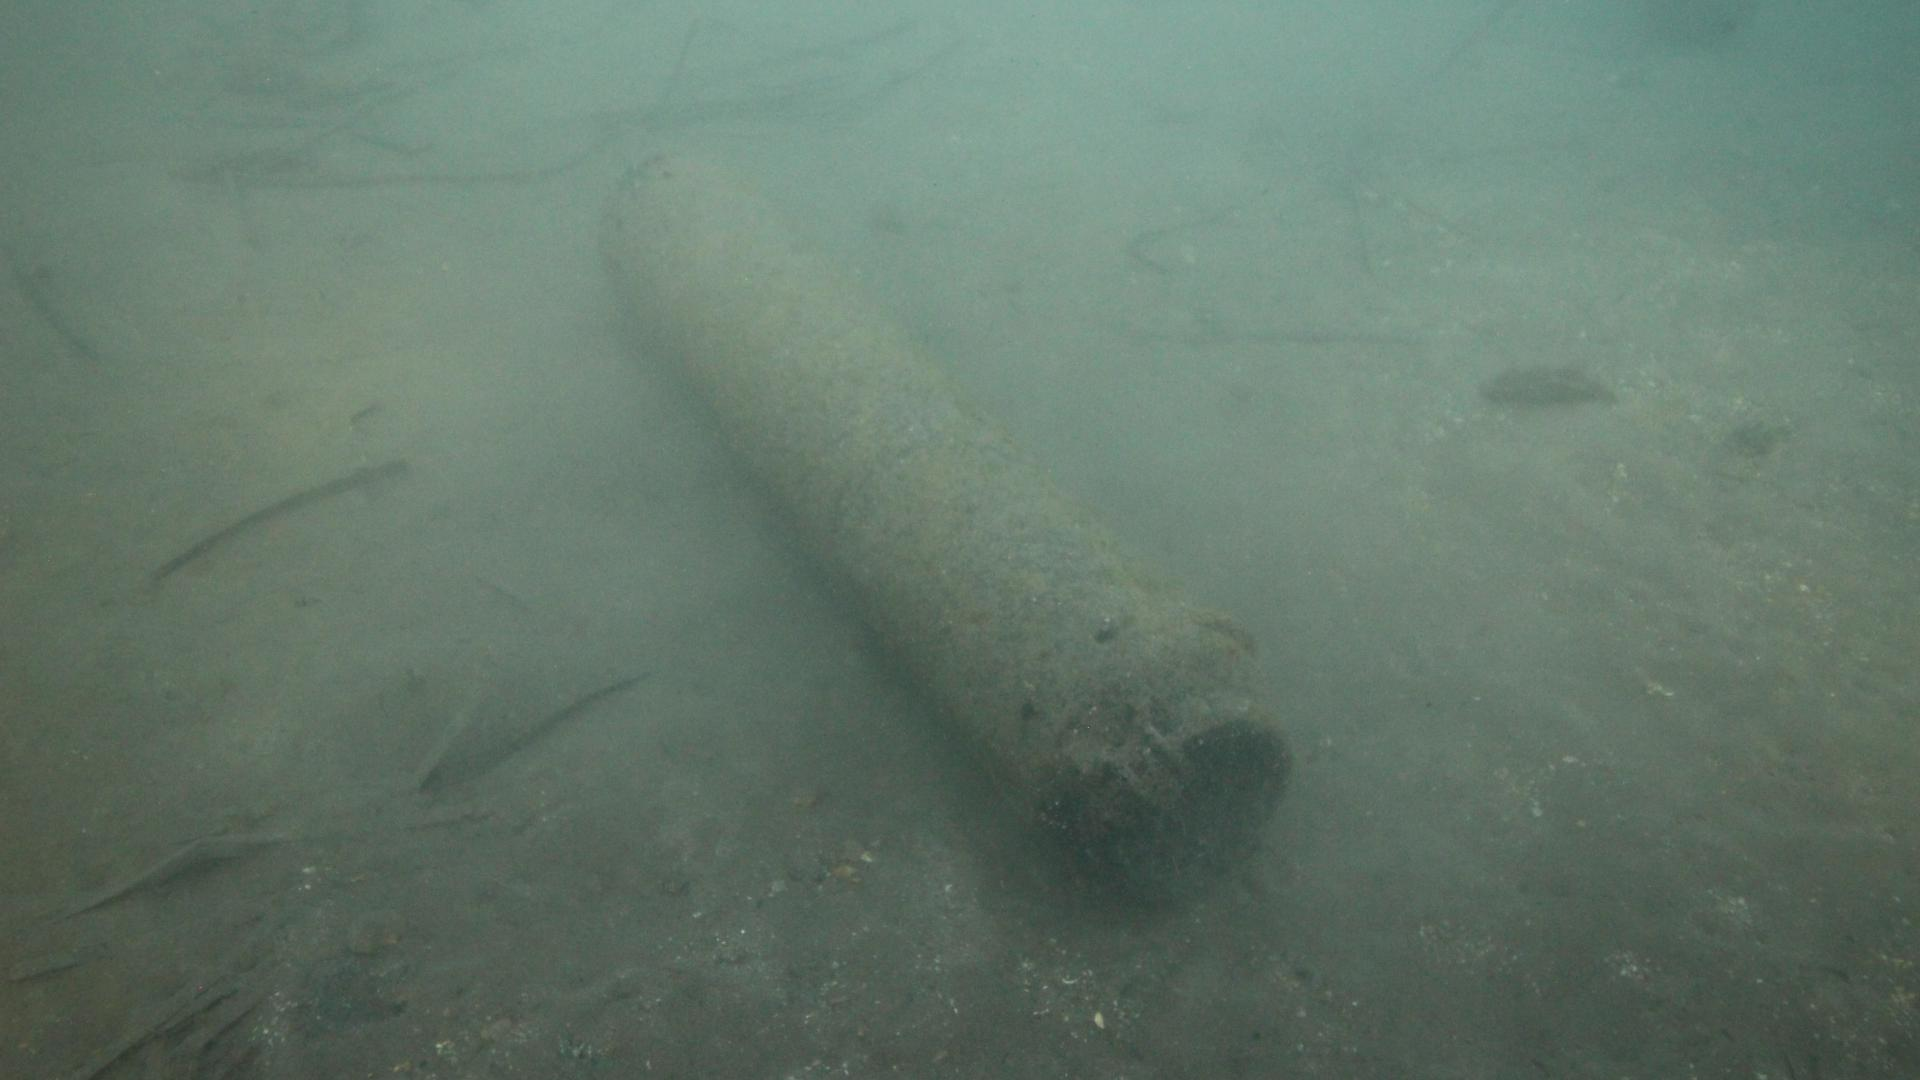eel fish trap: (591, 145, 1300, 914)
